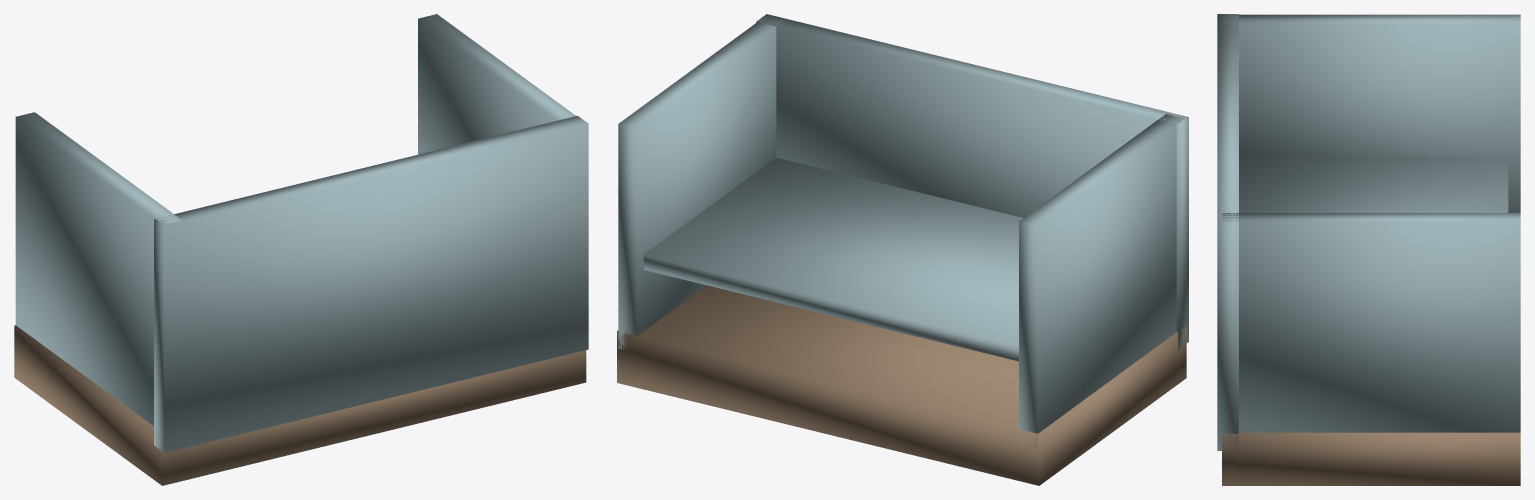
File: pastry_case__squat.glb
3 views of the same model, side by side, from view 1: azimuth 30°, elevation 25°; view 2: azimuth 150°, elevation 25°; view 3: azimuth 270°, elevation 25° (orthographic).
Parts seen in each view (by area): view 1: world; view 2: world; view 3: world.
Boxes of the visible parts, bbox=[...] form: world: bbox=[14, 14, 588, 485]; world: bbox=[617, 14, 1188, 485]; world: bbox=[1217, 14, 1520, 485].
Bounding box in the file's own units: 0.858 × 0.504 × 0.5265.
